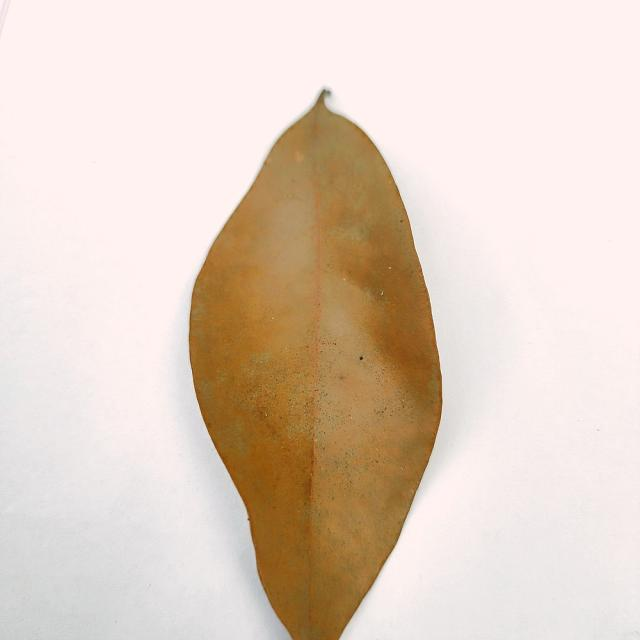Dry_Leaf-Lychee: (186, 88, 444, 639)
